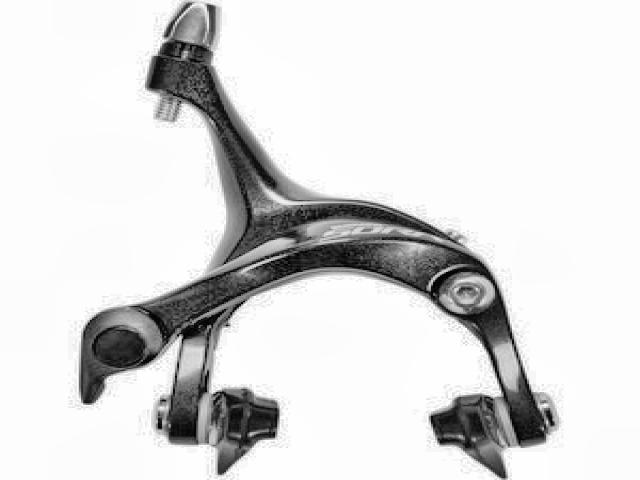rim_brake: (77, 0, 560, 480)
